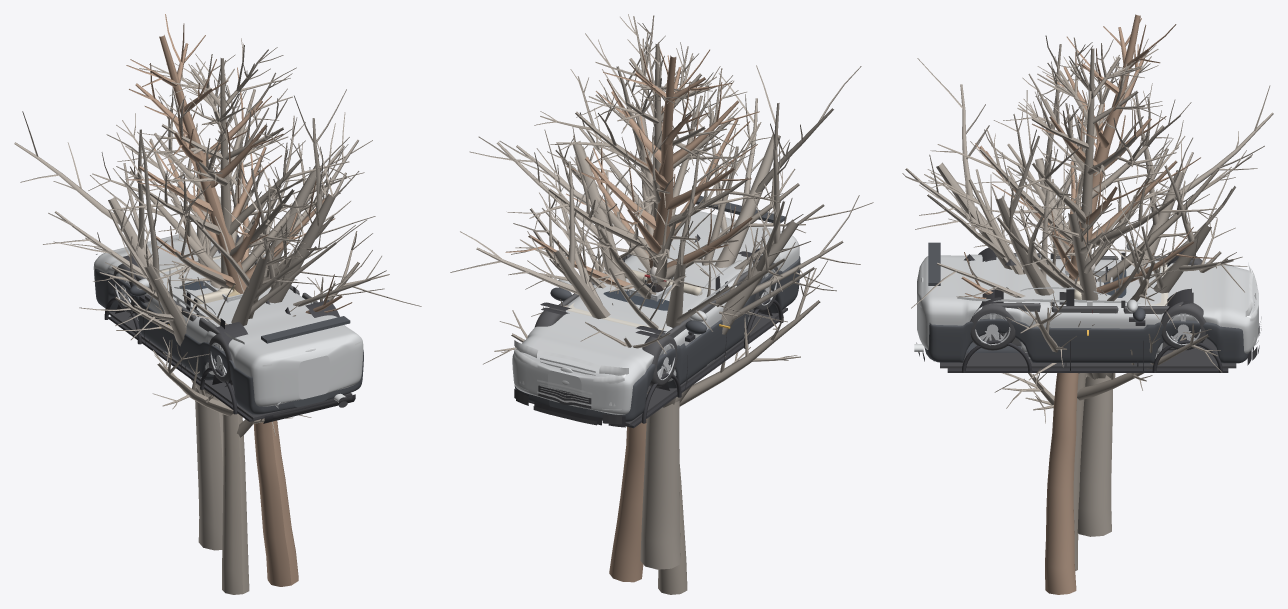
File: SongcheonAssets.glb
3 renders of one model, left to right at view 1: azimuth 30°, elevation 25°; view 2: azimuth 150°, elevation 25°; view 3: azimuth 270°, elevation 25°, orthographic. The views are drawn at different scales.
Visible parts, largest first — view 1: Tree_Ginkgo_Wood, Tree_Zelkova_Wood, Tree_Pine_Wood, Sedan_Paint, SUV_Paint, SUV_Black, Sedan_Black, SUV_WheelDark, SUV_Tires; view 2: Tree_Zelkova_Wood, Tree_Ginkgo_Wood, Sedan_Paint, Tree_Pine_Wood, SUV_Paint, Sedan_Black, SUV_Black, SUV_Tires, SUV_Chrome, Sedan_Chrome, SUV_DoorTrimDark; view 3: Tree_Ginkgo_Wood, Tree_Zelkova_Wood, Sedan_Paint, Tree_Pine_Wood, SUV_Paint, Sedan_Black, SUV_Black, SUV_Tires, SUV_DoorTrimDark, SUV_Wheels, SUV_WheelDark, SUV_Chrome.
Part boxes in pixels (x1,y1,x2,y2): Tree_Ginkgo_Wood: [71, 38, 389, 594]; Tree_Zelkova_Wood: [14, 79, 421, 550]; Tree_Pine_Wood: [126, 14, 352, 586]; Sedan_Paint: [93, 232, 363, 406]; SUV_Paint: [94, 268, 363, 414]; SUV_Black: [104, 292, 355, 423]; Sedan_Black: [109, 295, 352, 420]; SUV_WheelDark: [123, 234, 339, 386]; SUV_Tires: [113, 263, 232, 383]; Tree_Zelkova_Wood: [450, 32, 873, 569]; Tree_Ginkgo_Wood: [483, 14, 827, 594]; Sedan_Paint: [512, 211, 799, 414]; Tree_Pine_Wood: [505, 48, 759, 582]; SUV_Paint: [514, 196, 800, 422]; Sedan_Black: [514, 234, 787, 425]; SUV_Black: [516, 248, 783, 428]; SUV_Tires: [534, 238, 779, 387]; SUV_Chrome: [537, 260, 758, 375]; Sedan_Chrome: [514, 260, 741, 410]; SUV_DoorTrimDark: [558, 249, 761, 387]; Tree_Ginkgo_Wood: [923, 37, 1252, 570]; Tree_Zelkova_Wood: [902, 35, 1273, 536]; Sedan_Paint: [917, 240, 1258, 353]; Tree_Pine_Wood: [961, 14, 1214, 594]; SUV_Paint: [924, 242, 1249, 363]; Sedan_Black: [916, 259, 1259, 368]; SUV_Black: [922, 254, 1253, 372]; SUV_Tires: [970, 256, 1205, 350]; SUV_DoorTrimDark: [984, 253, 1190, 350]; SUV_Wheels: [975, 313, 1200, 345]; SUV_WheelDark: [971, 247, 1197, 337]; SUV_Chrome: [921, 273, 1256, 305].
Size of the model in its own units: 16.16 by 26.1 by 16.31.
